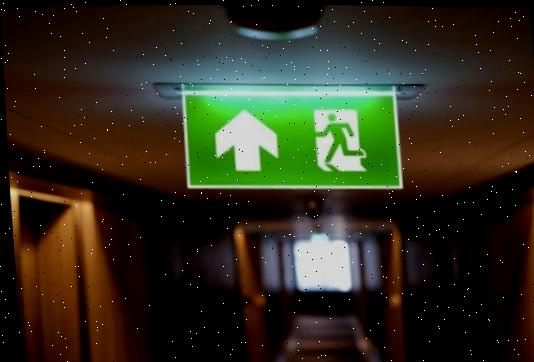emergency_exit: (180, 86, 404, 191)
